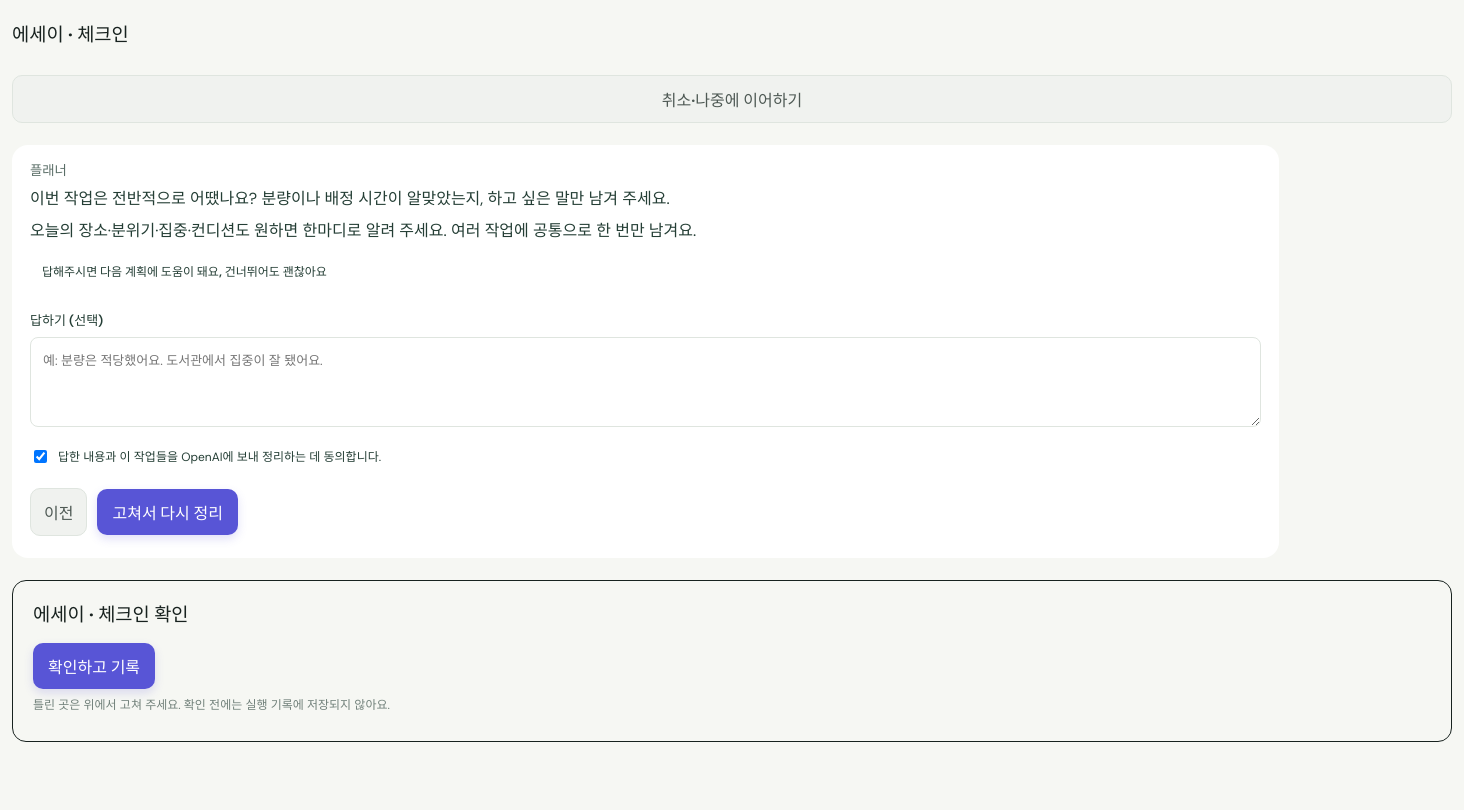
recovers a committed check-in after a lost response rather than reporting failure
Click the button "확인하고 기록" at (94, 666), box 33,643 -> 155,689
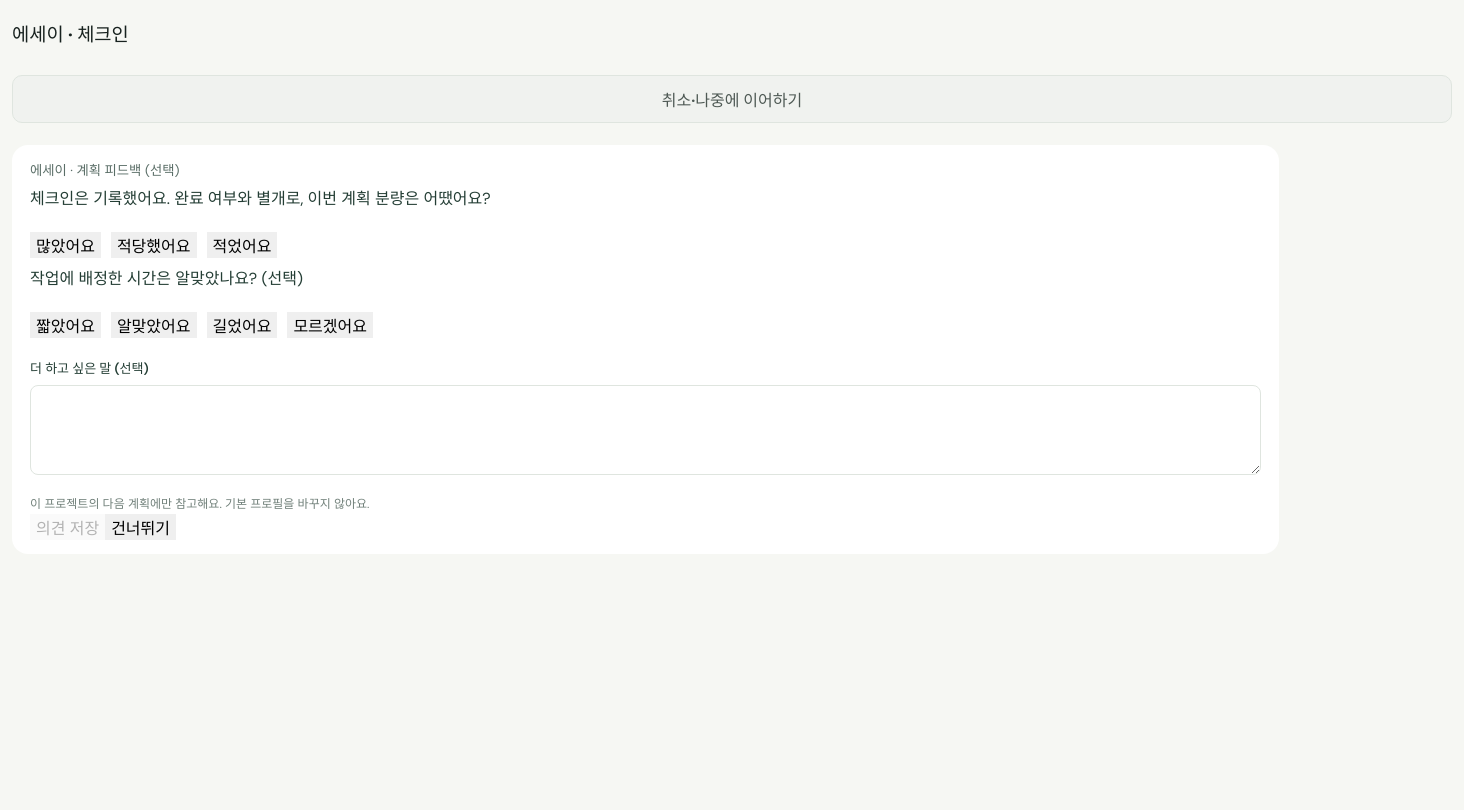
Expected: the text "체크인은 기록했어요. 완료 여부와 별개로, 이번 계획 분량은 어땠어요?" is shown, 30,188 -> 491,209
